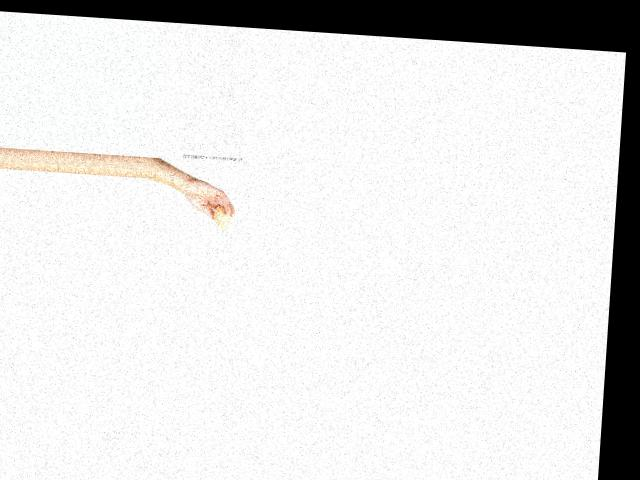egg: (212, 204, 231, 229)
